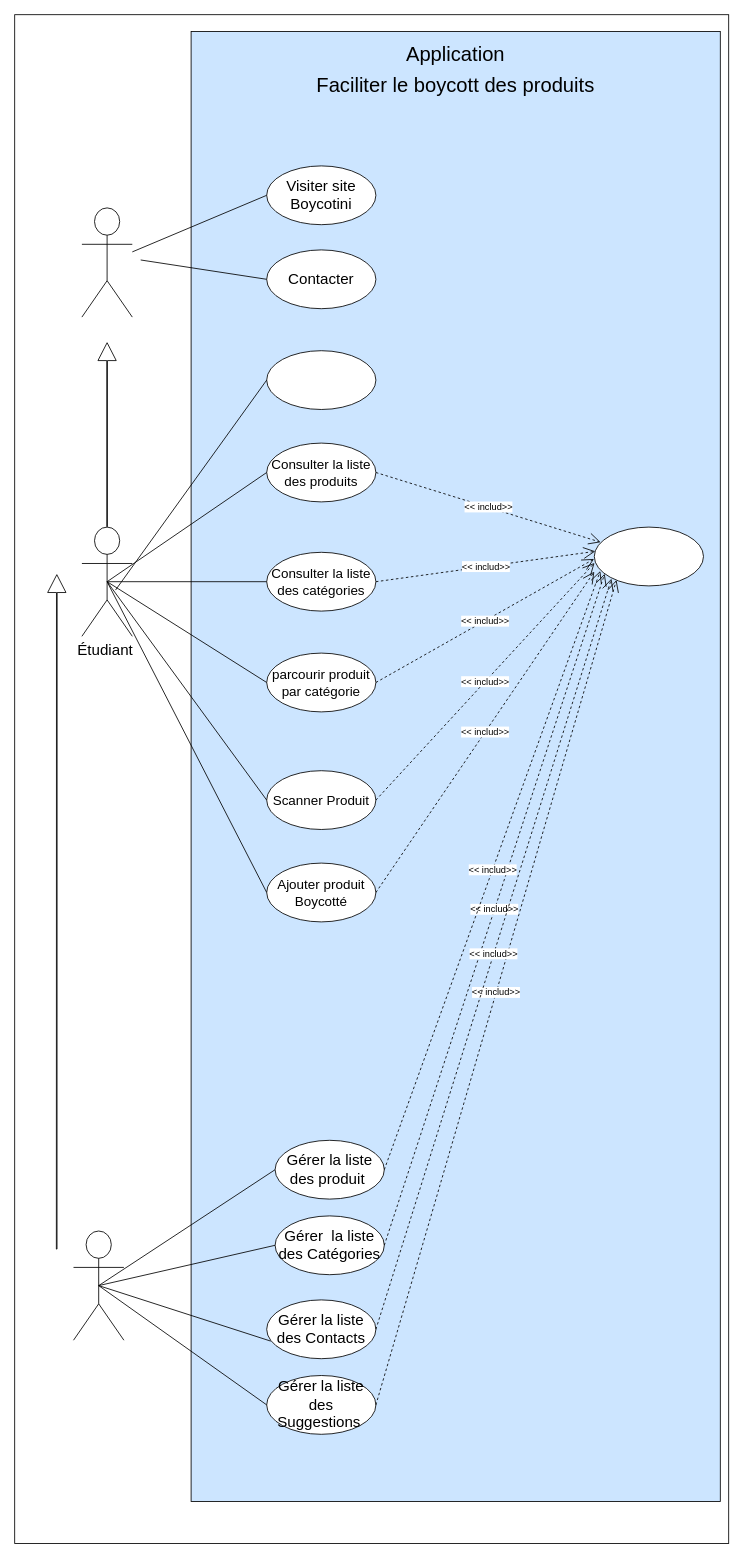
Some shapes in this 743 by 1558 pixel diagram are drawn without their labels. The shapes that lost their labels are listed below. From the top down, each one's centre as x and y in pixels, then its label:
pixel 106 262: Visiteur
pixel 321 380: Créer compte
pixel 648 556: S'authentifié
pixel 98 1285: Admin
